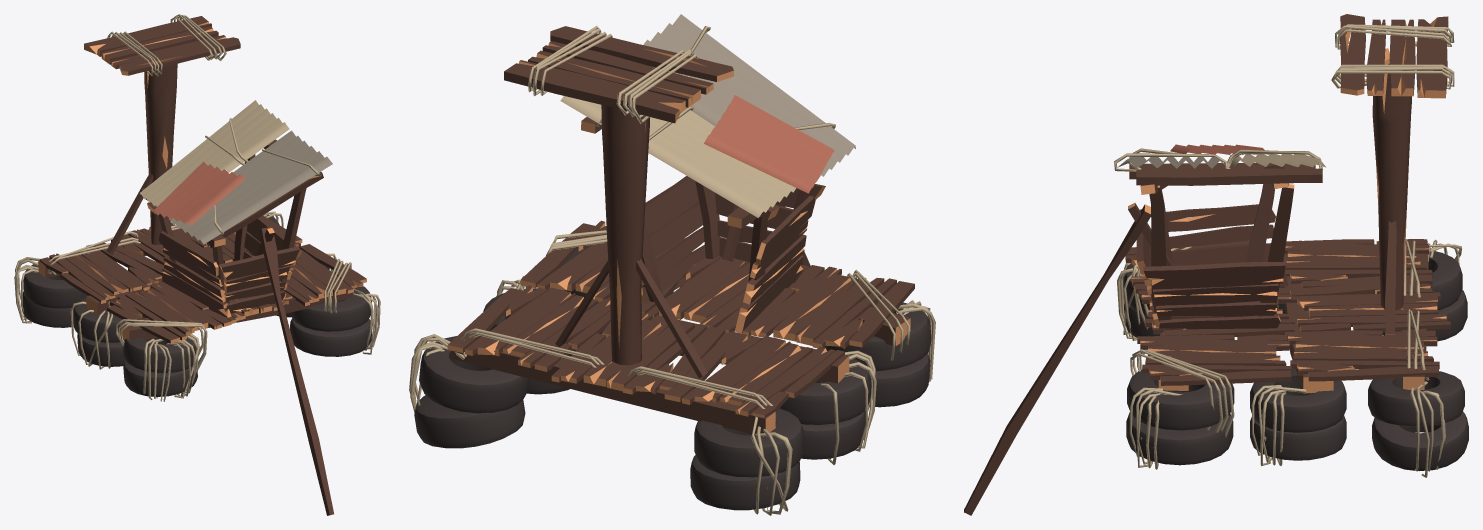
File: SM_BoatBase_V1.fbx
3 views of the same model, side by side, from view 1: azimuth 30°, elevation 25°; view 2: azimuth 150°, elevation 25°; view 3: azimuth 270°, elevation 25° (orthographic). The views are drawn at different scales.
Parts seen in each view (by area): view 1: SM_BoatBase_V1, SM_BoatRudder_V1; view 2: SM_BoatBase_V1; view 3: SM_BoatBase_V1, SM_BoatRudder_V1.
Boxes of the visible parts, x1,y1,x2,y2 form: SM_BoatBase_V1: [14, 14, 380, 401]; SM_BoatRudder_V1: [256, 226, 333, 515]; SM_BoatBase_V1: [409, 14, 935, 515]; SM_BoatBase_V1: [1114, 14, 1468, 477]; SM_BoatRudder_V1: [964, 203, 1173, 515].
Bounding box in the file's own units: 233 × 306 × 298.
